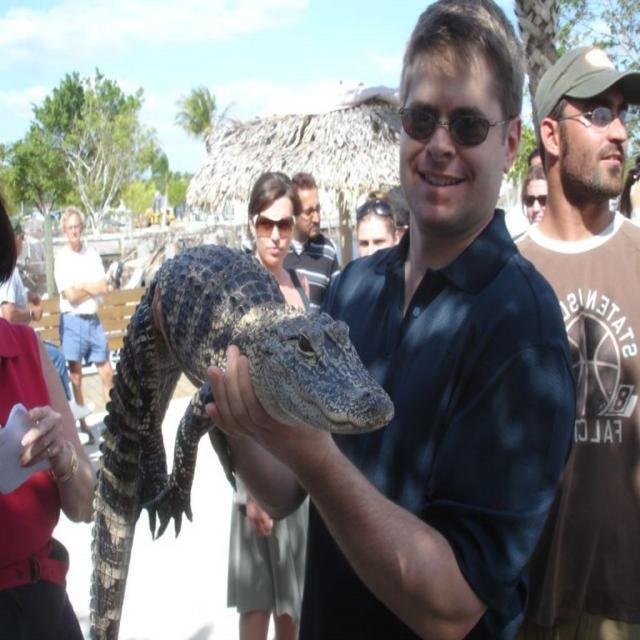crocodile: (51, 215, 423, 639)
